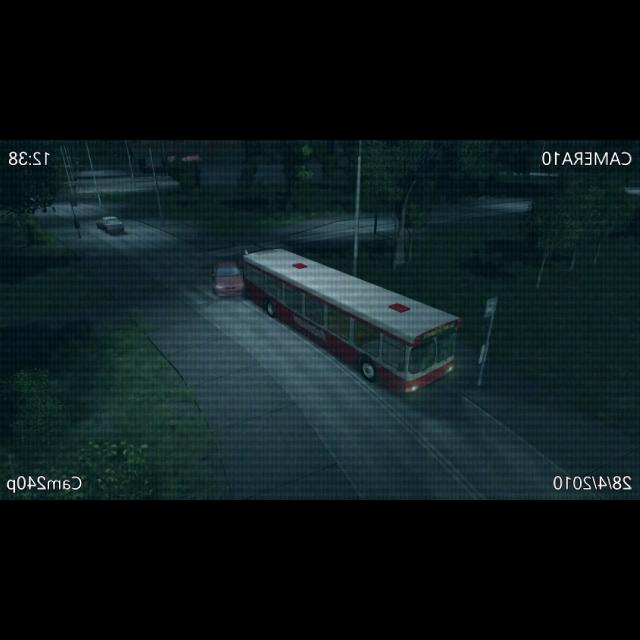accident: (208, 248, 462, 412)
